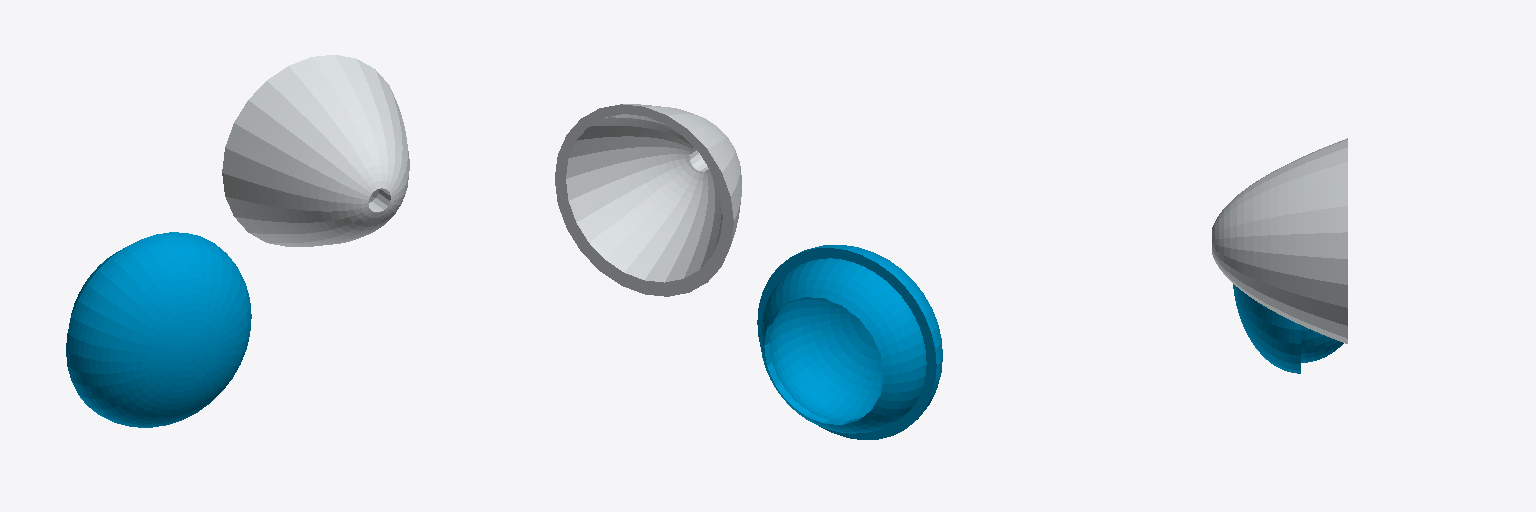
File: tinker.obj
3 views of the same model, side by side, from view 1: azimuth 30°, elevation 25°; view 2: azimuth 150°, elevation 25°; view 3: azimuth 270°, elevation 25° (orthographic).
Parts seen in each view (by area): view 1: obj_0; view 2: obj_0; view 3: obj_0.
Boxes of the visible parts, <box> form: obj_0: <box>66,55,409,427</box>; obj_0: <box>555,104,942,439</box>; obj_0: <box>1212,138,1347,373</box>.
Bounding box in the file's own units: 180 × 146 × 59.07.